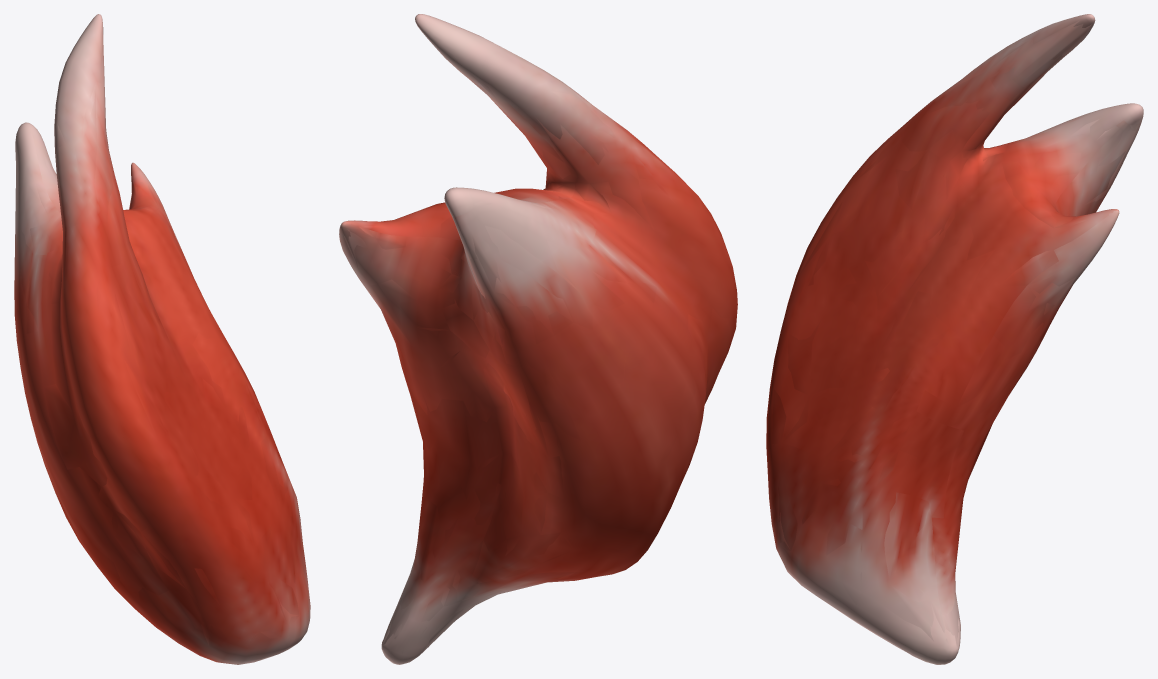
Rendered from R Quadriceps Femoris.fbx.
3 renders of one model, left to right at view 1: azimuth 30°, elevation 25°; view 2: azimuth 150°, elevation 25°; view 3: azimuth 270°, elevation 25°, orthographic. The views are drawn at different scales.
Parts seen in each view (by area): view 1: R Quadriceps Femoris, R Quadriceps Femoris low; view 2: R Quadriceps Femoris, R Quadriceps Femoris low; view 3: R Quadriceps Femoris, R Quadriceps Femoris low.
Boxes of the visible parts, x1=… form: R Quadriceps Femoris: x1=14, y1=14, x2=310, y2=664; R Quadriceps Femoris low: x1=14, y1=17, x2=308, y2=664; R Quadriceps Femoris: x1=339, y1=14, x2=737, y2=664; R Quadriceps Femoris low: x1=343, y1=16, x2=735, y2=662; R Quadriceps Femoris: x1=766, y1=14, x2=1143, y2=664; R Quadriceps Femoris low: x1=768, y1=20, x2=1138, y2=662.
Bounding box in the file's own units: 16.74 × 39.99 × 22.56.
